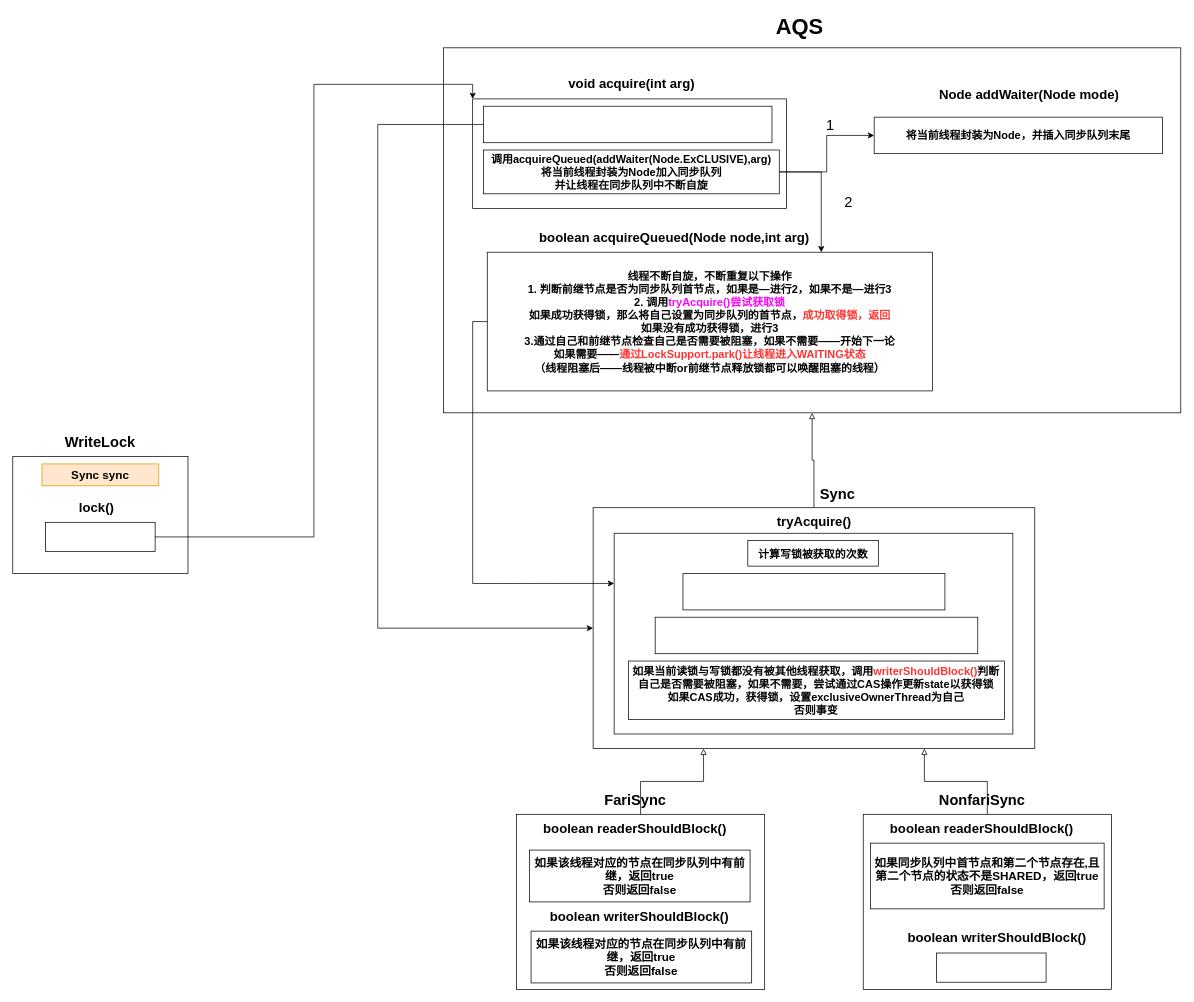
This 1194x1002 diagram has some shape labels left out. Here are the shapes that lost their labels. From the top down, the box of each, then its label:
(483, 105, 772, 143): 调用 tryAcquire(arg)(子类实现) 尝试获得锁 如果获得成功， 则返回
(45, 522, 155, 552): sync.acquire(1)
(682, 573, 945, 610): 如果读锁被获取，写锁没被其他线程获取，返回false 如果写锁被其他线程获取，返回false
(654, 616, 978, 654): 如果写锁已被自己获取，那么此次为重入操作，更新state
(936, 952, 1046, 982): 返回false
